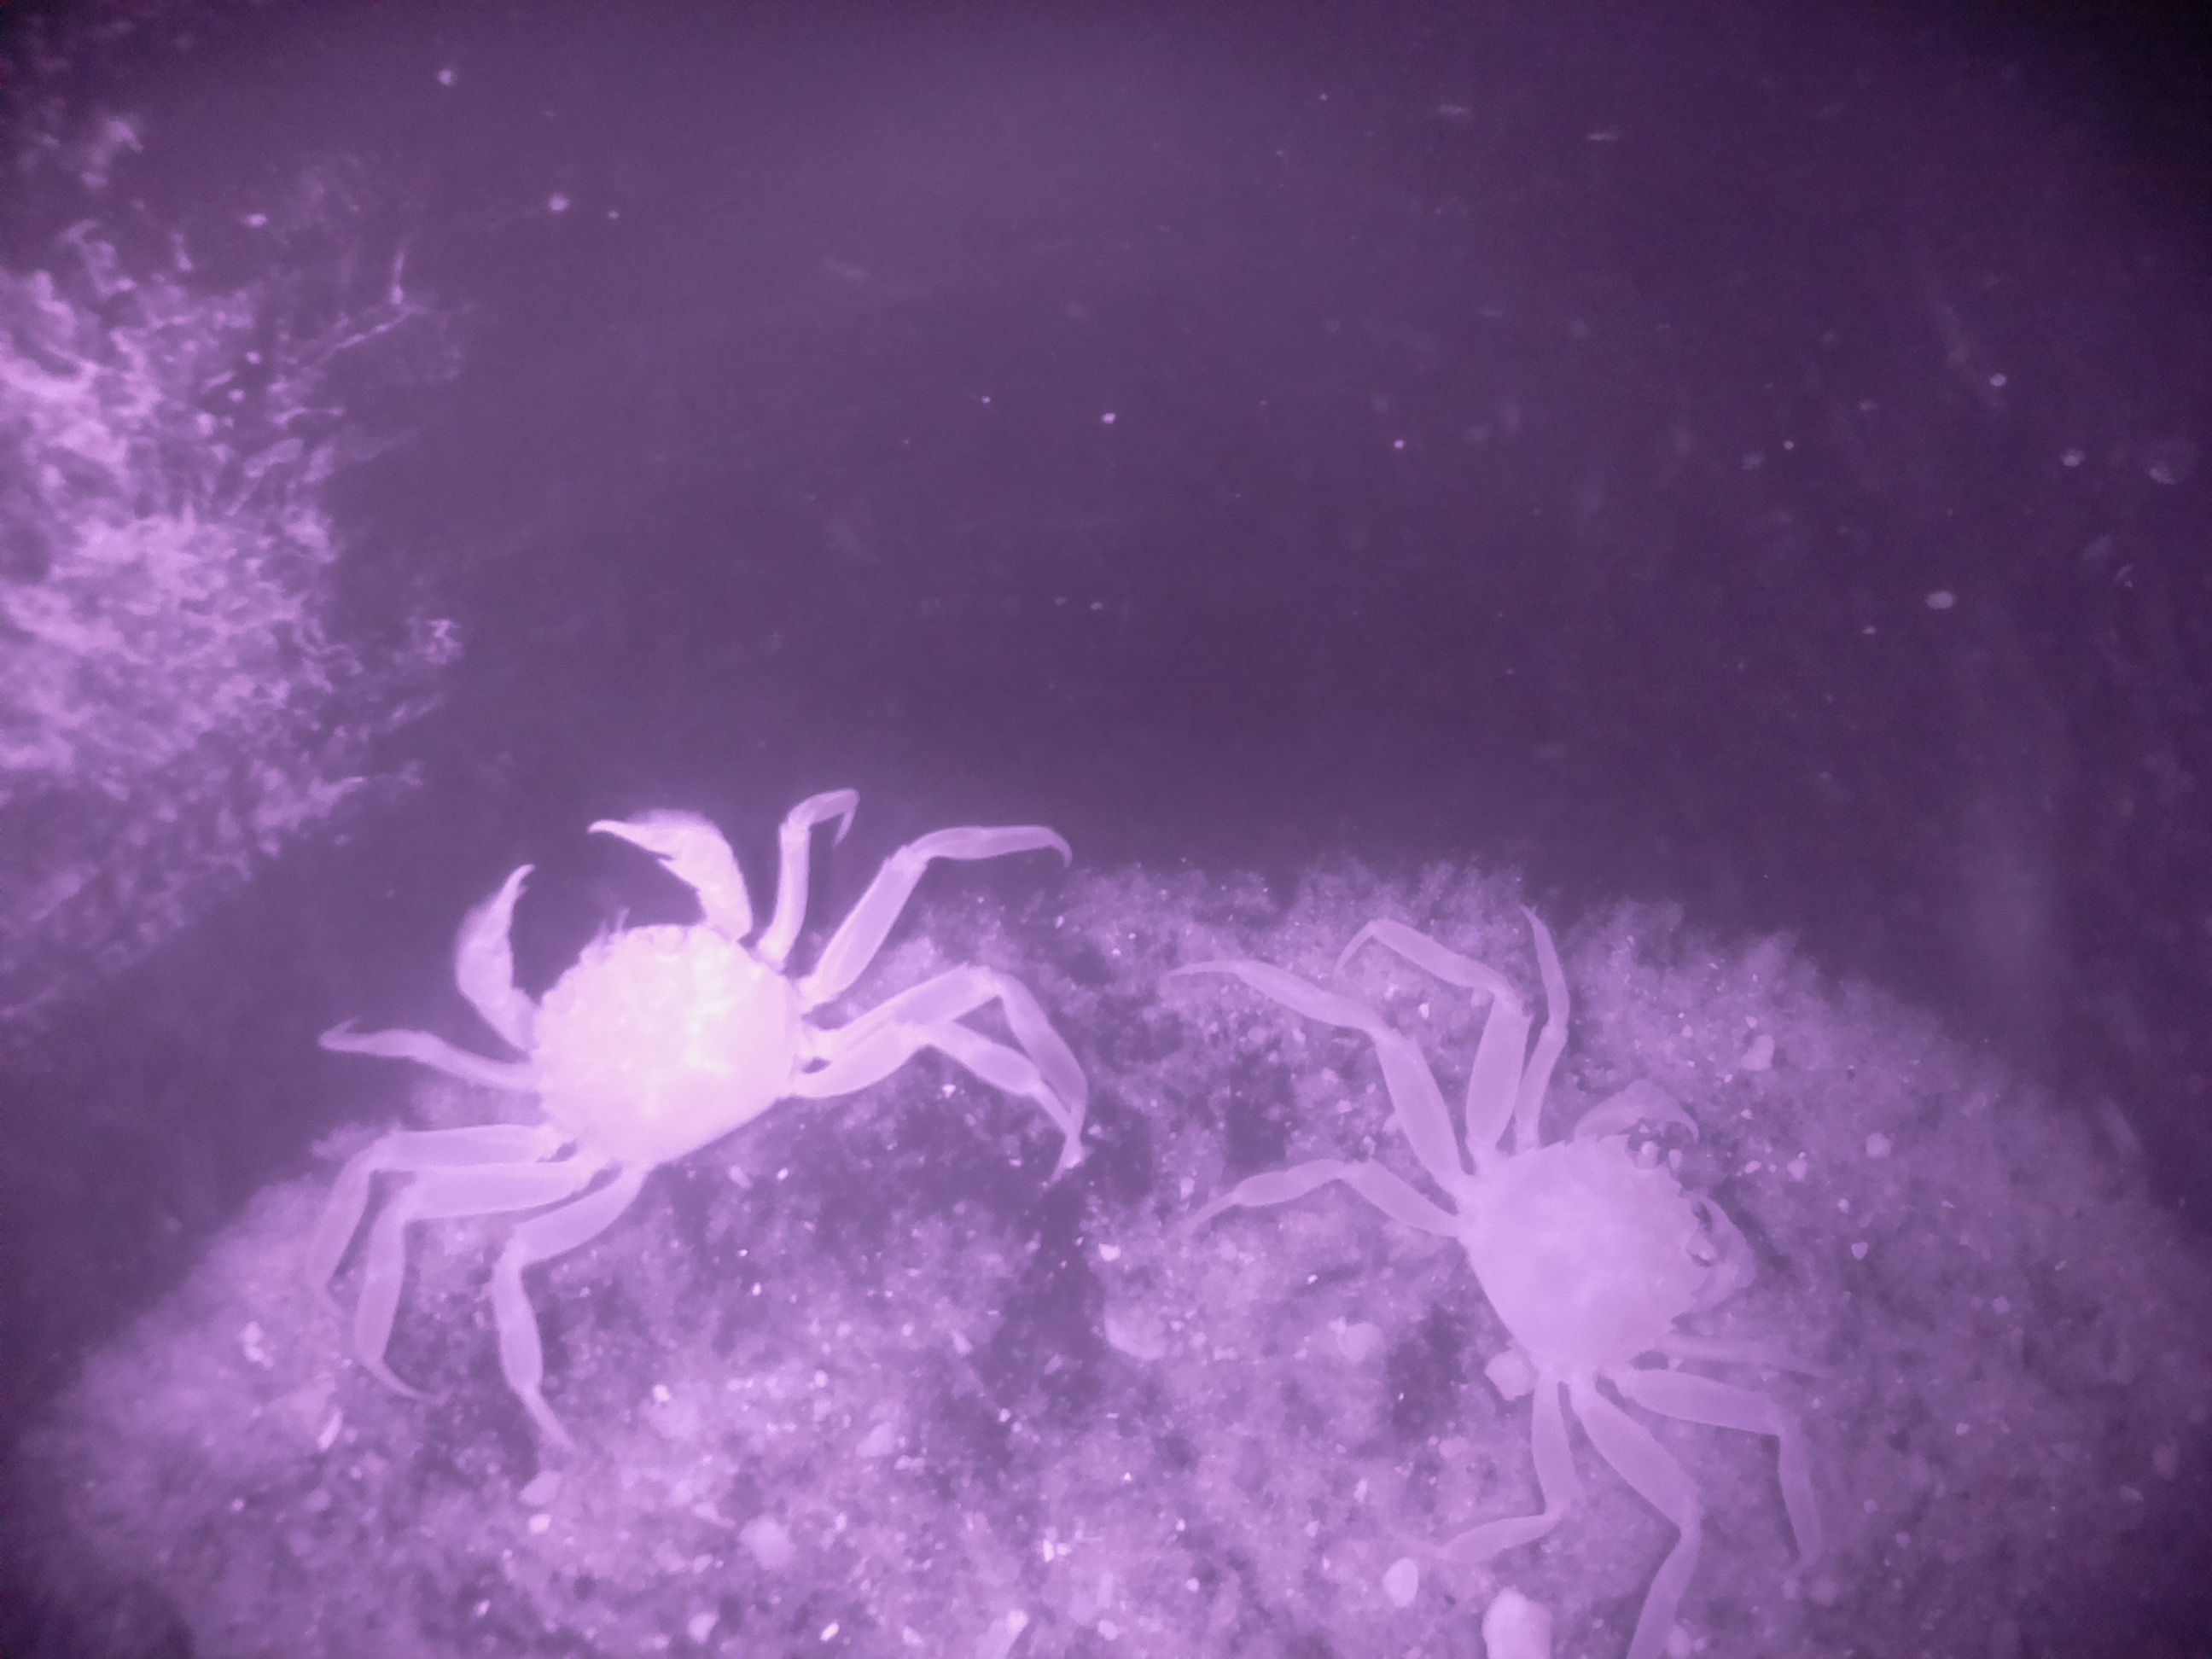Crab: (352, 721, 911, 1276), (1359, 993, 1832, 1485)
